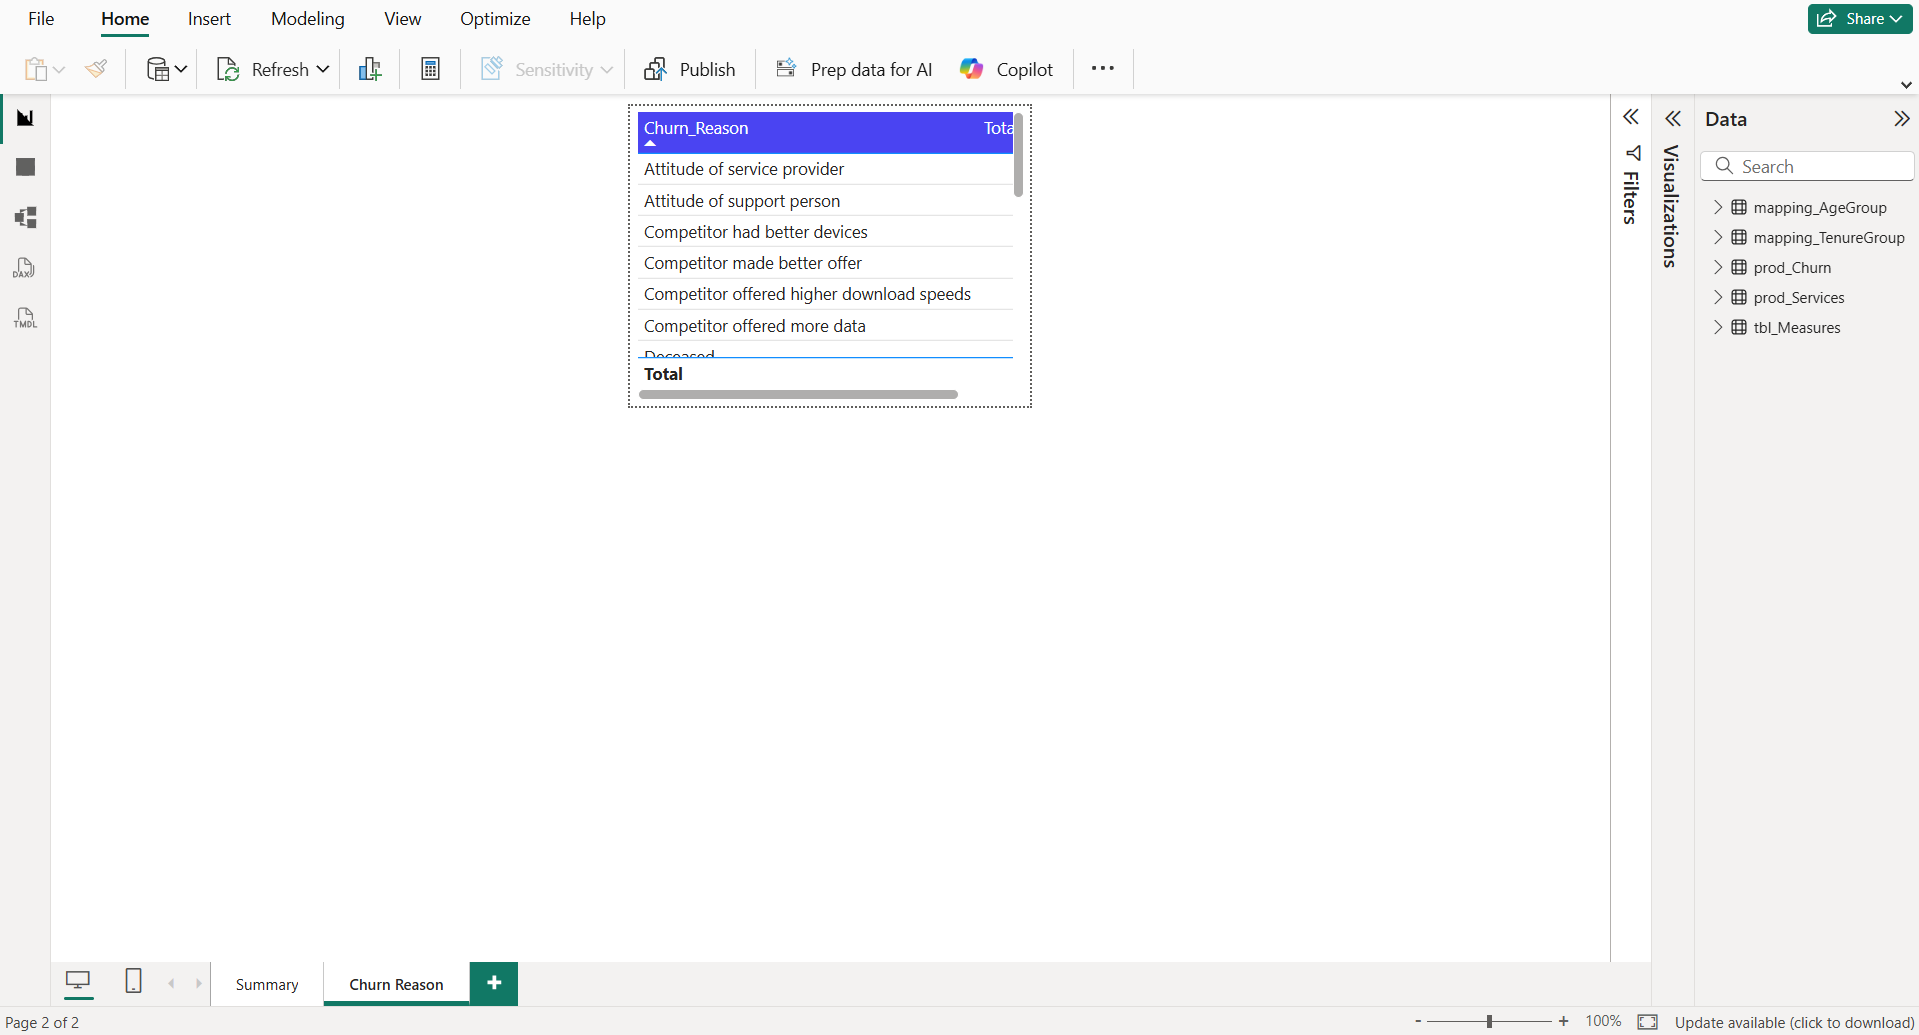

What the dashboard file says about the page in this screenshot:
{"tool":"powerbi","page":{"name":"Churn Reason","canvas":[320,240],"ordinal":1},"visuals":[{"type":"tableEx","fields":{"Values":["prod_Churn.Churn_Reason","tbl_Measures.Total Churn"]},"box":[0,0,320,240],"z":0}]}

Visuals, with their boxes on the page's 320x240 design canvas (x1, y1, x2, y2). These are canvas units, not pixel positions in the 1919x1035 screenshot, which may show the page scaled, cropped or inside an application window:
tableEx - prod_Churn.Churn_Reason x tbl_Measures.Total Churn: <bbox>0, 0, 320, 240</bbox>
